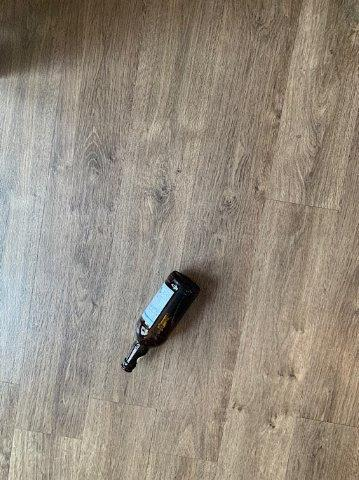botolkaca: (122, 272, 199, 372)
